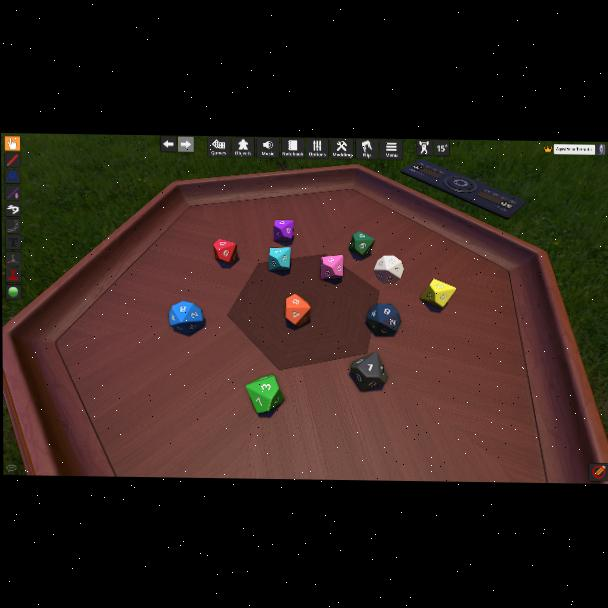d10: (246, 372, 284, 412), (350, 352, 386, 391), (169, 300, 204, 335), (366, 303, 399, 336), (421, 278, 454, 309), (285, 293, 310, 328), (374, 254, 402, 283), (348, 233, 373, 258), (214, 239, 236, 265), (319, 255, 341, 281), (269, 247, 291, 271), (273, 220, 294, 243)
